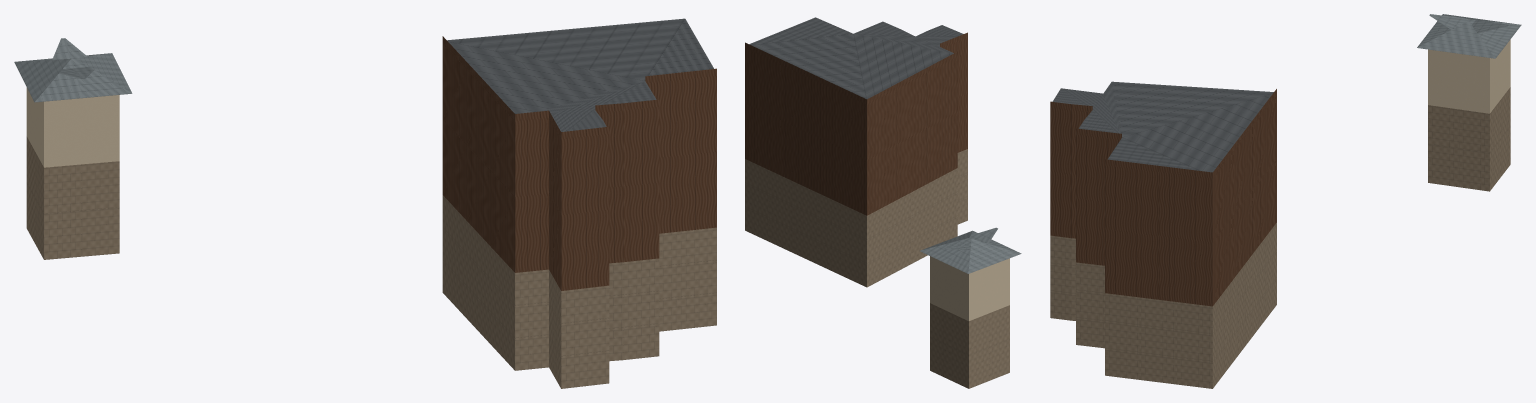
File: bld_c3_18_461.gltf
The picture shows the model from 3 angles, left to right: view 1: azimuth 30°, elevation 25°; view 2: azimuth 150°, elevation 25°; view 3: azimuth 270°, elevation 25°; orthographic projection. The views are drawn at different scales.
Parts seen in each view (by area): view 1: bld_c3_18_461; view 2: bld_c3_18_461; view 3: bld_c3_18_461.
Part boxes in pixels (x1,y1,x2,y2): bld_c3_18_461: (14,18,716,388); bld_c3_18_461: (745,17,1021,388); bld_c3_18_461: (1050,14,1521,388).
Size of the model in its own units: 28.04 by 13.38 by 26.41.
6 materials, 6 textured.
